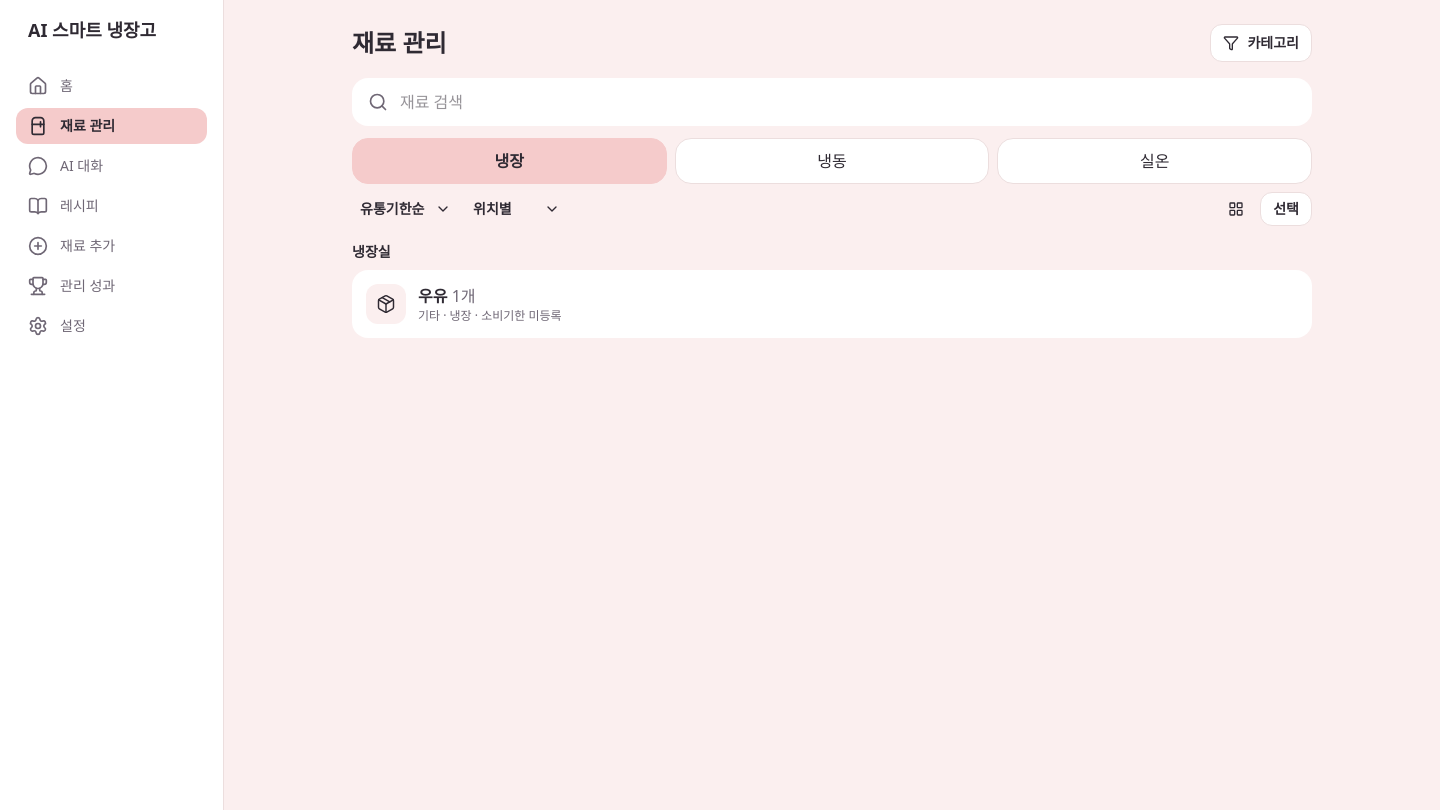
Test: 여러 재료 선택 › 아직 없는 이동·레시피 기능은 눌리지 않는다
Expected: the link "우유 1개 기타 · 냉장 · 소비기한 미등록" is shown, x1=352 y1=270 x2=1312 y2=338
Click the button "선택" at (1286, 209), box x1=1260 y1=192 x2=1312 y2=226
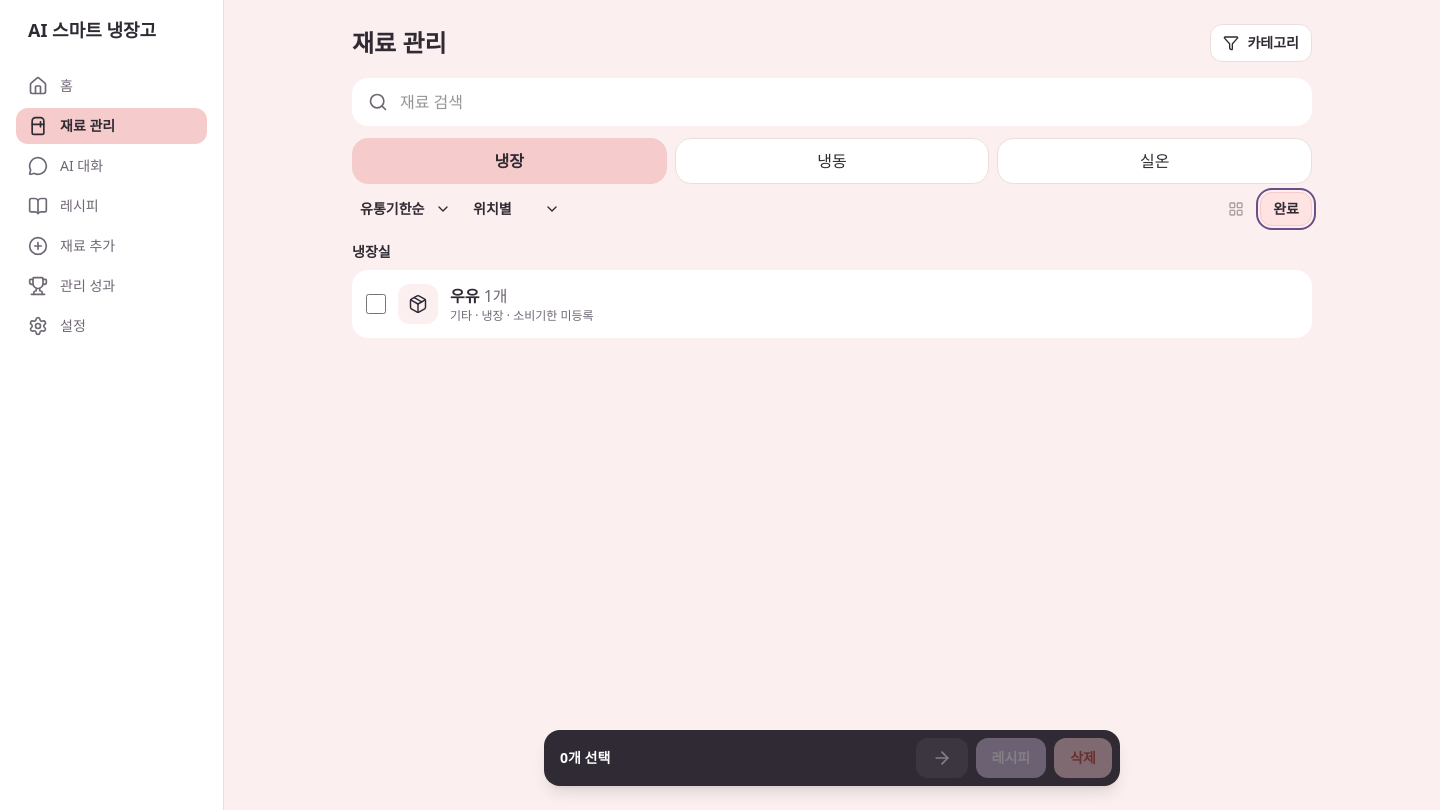
Expected: the button named "보관 장소 이동 (준비 중)" is disabled, x1=916 y1=738 x2=968 y2=778
Expected: the button with aria-label "레시피 (준비 중)" is disabled, x1=976 y1=738 x2=1046 y2=778
Expected: the button "삭제" is disabled, x1=1054 y1=738 x2=1112 y2=778
